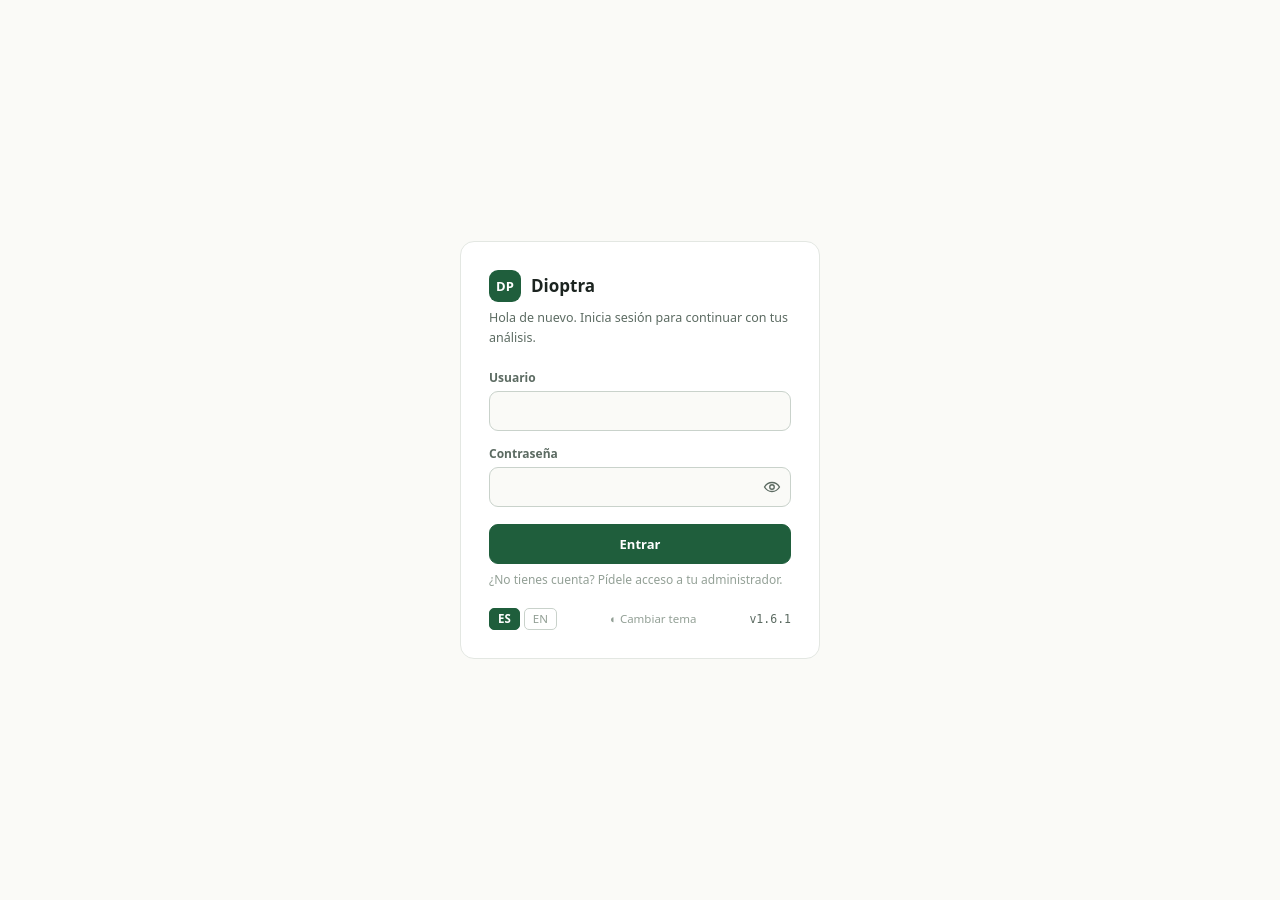
report screen › signs the current version with a reason and shows it locked
Type "mmarin" into the field labelled "Usuario" at (640, 411), box [489,391,791,431]
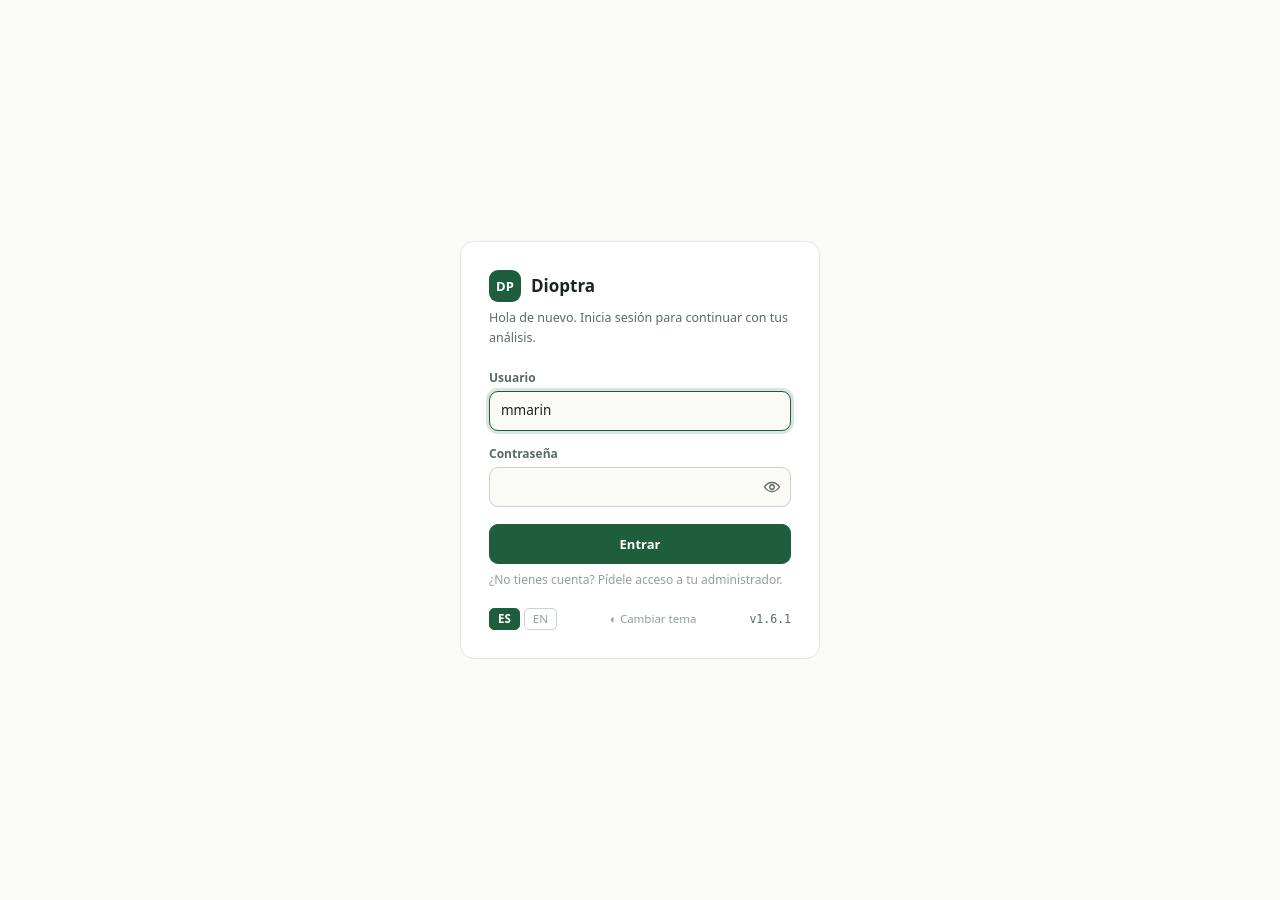
Type "correct-horse-battery-staple" into the password field labelled "Contraseña" at (640, 487), box [489,467,791,507]
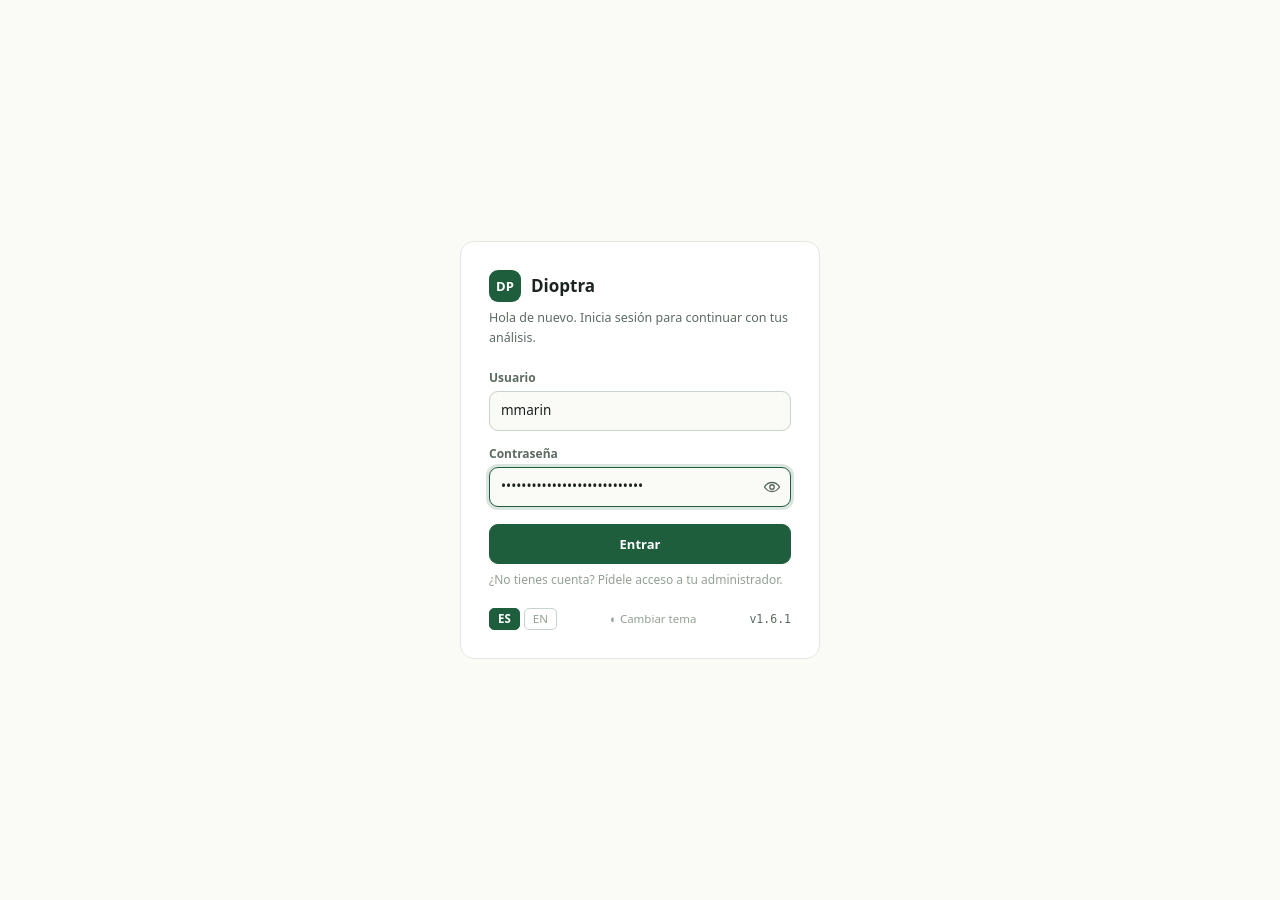
Click the button "Entrar" at (640, 544), box [489,524,791,564]
(page scrolled)
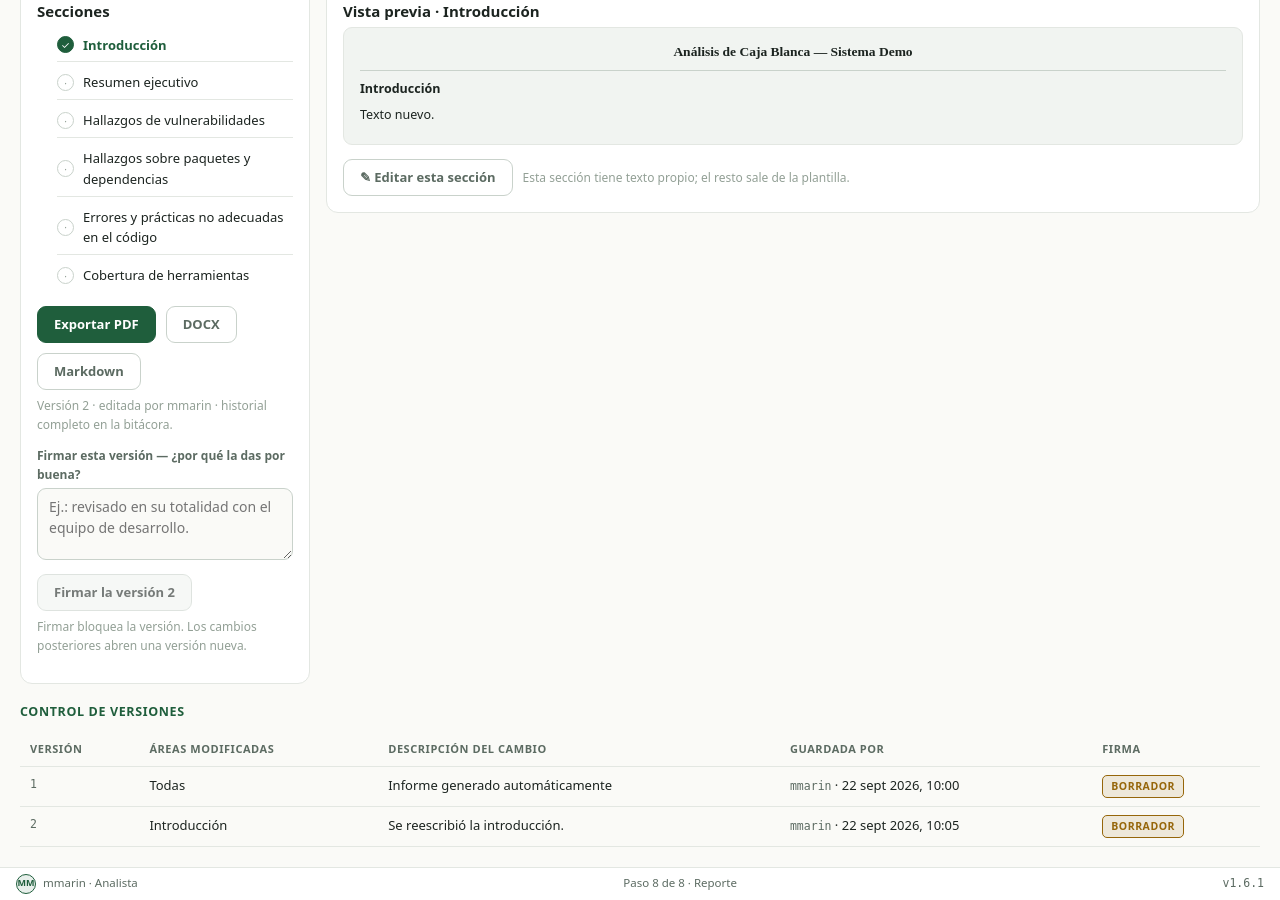
Type "Revisado con el equipo." into the text box labelled "Firmar esta versión — ¿por qué la das por buena?" at (165, 524), box [37,488,293,560]
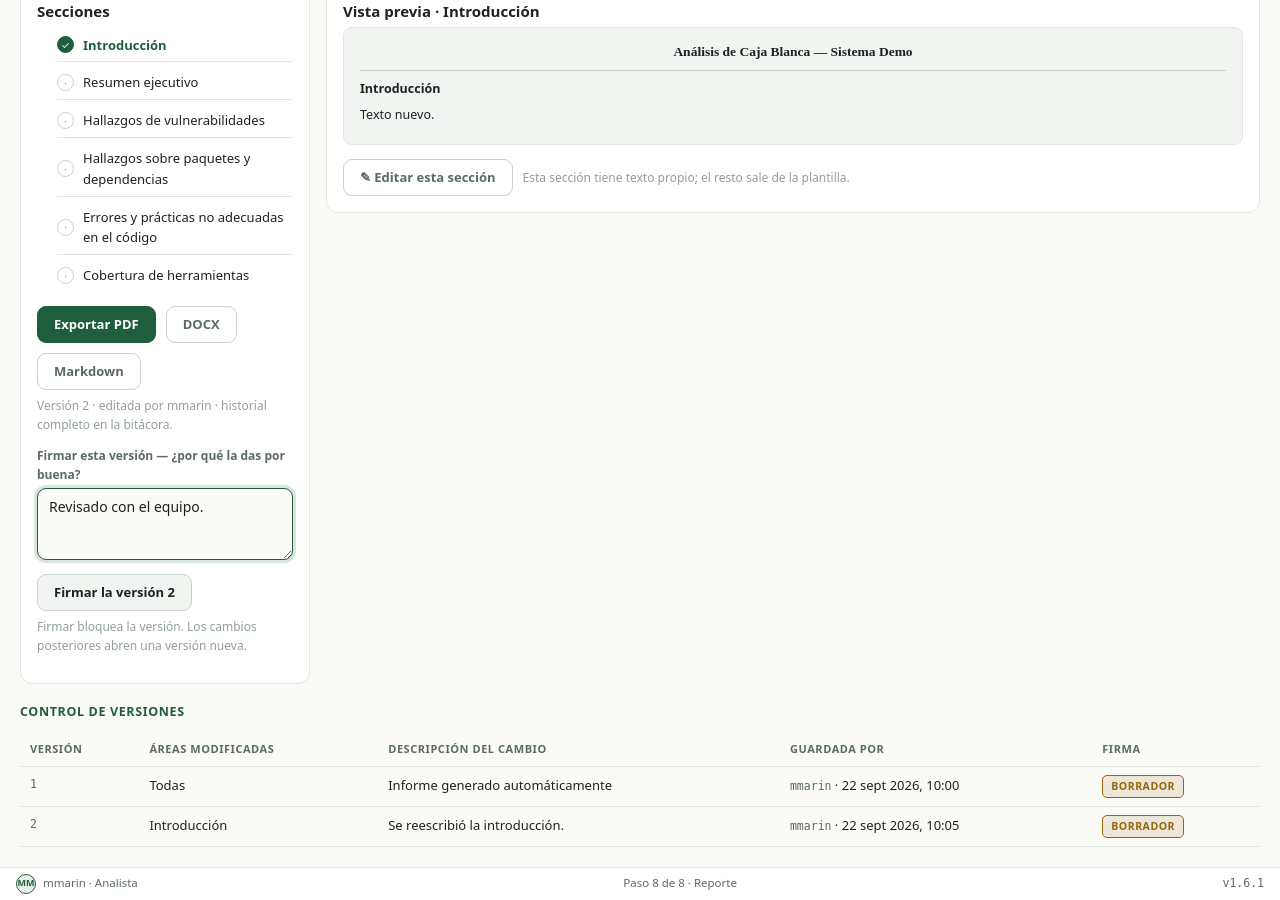
Click the button "Firmar la versión 2" at (114, 593), box [37,574,192,611]
(page scrolled)
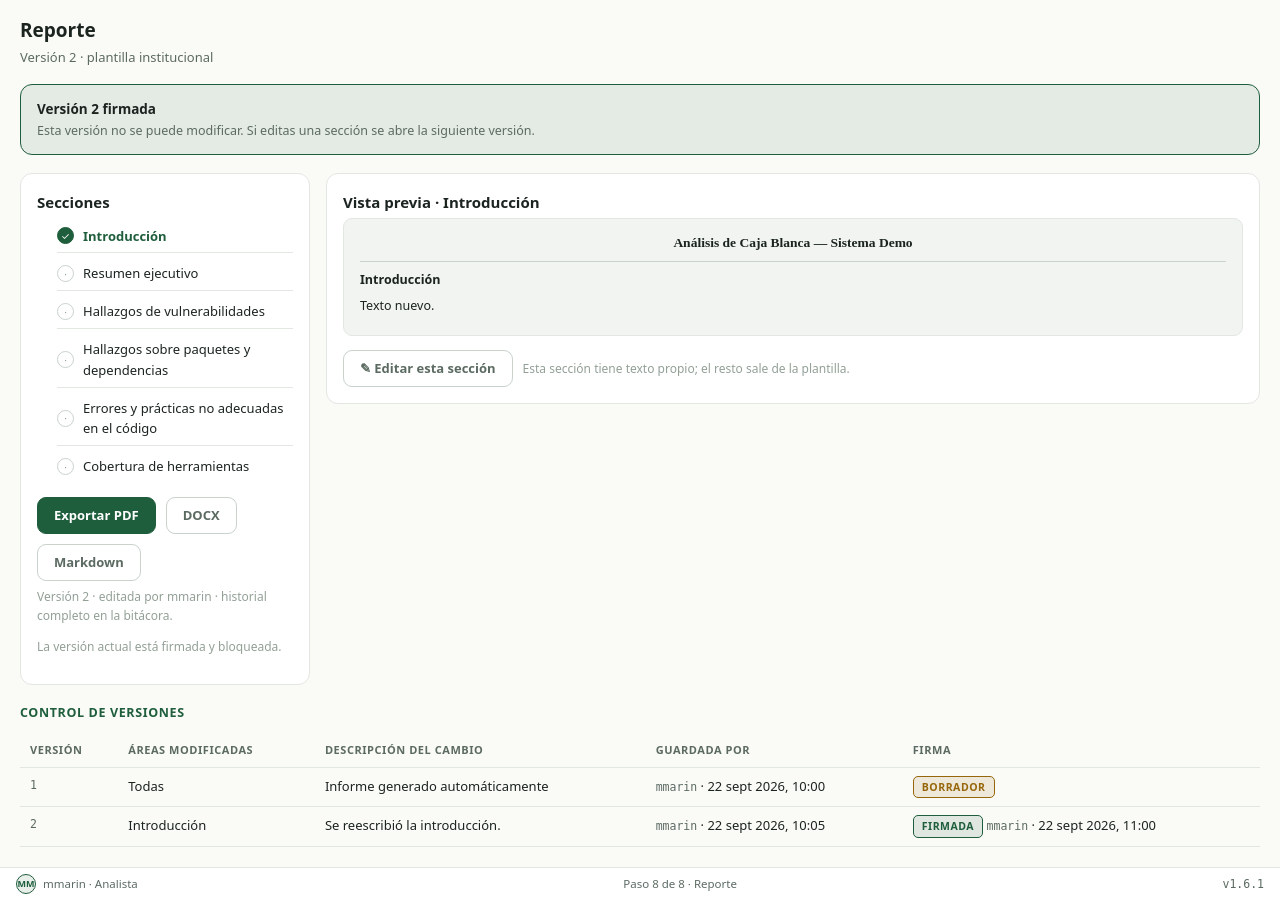
Now the text "La versión actual está firmada y bloqueada." is shown, box [37,637,293,656]
Now the text "Firmada" is shown, box [913,816,983,838]
